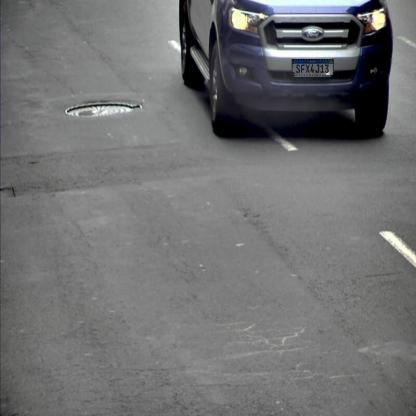PlacaM: (292, 59, 334, 76)
